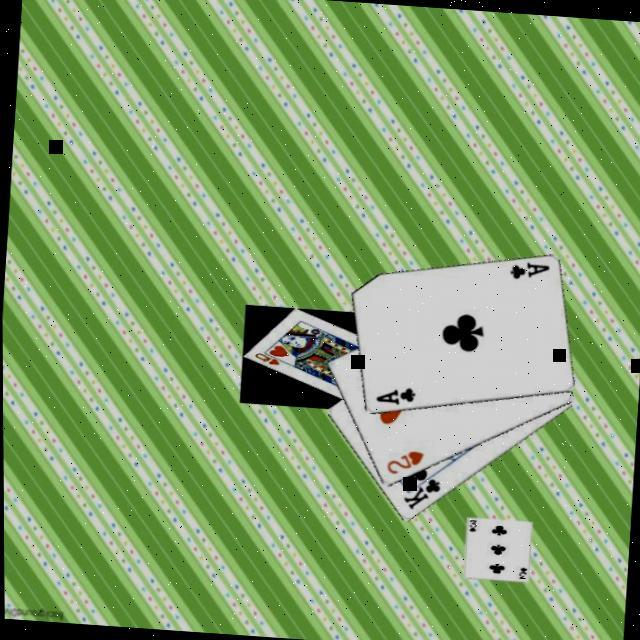2H: (383, 447, 427, 480)
AC: (374, 385, 419, 411), (507, 260, 552, 286)
KC: (400, 468, 445, 517)
